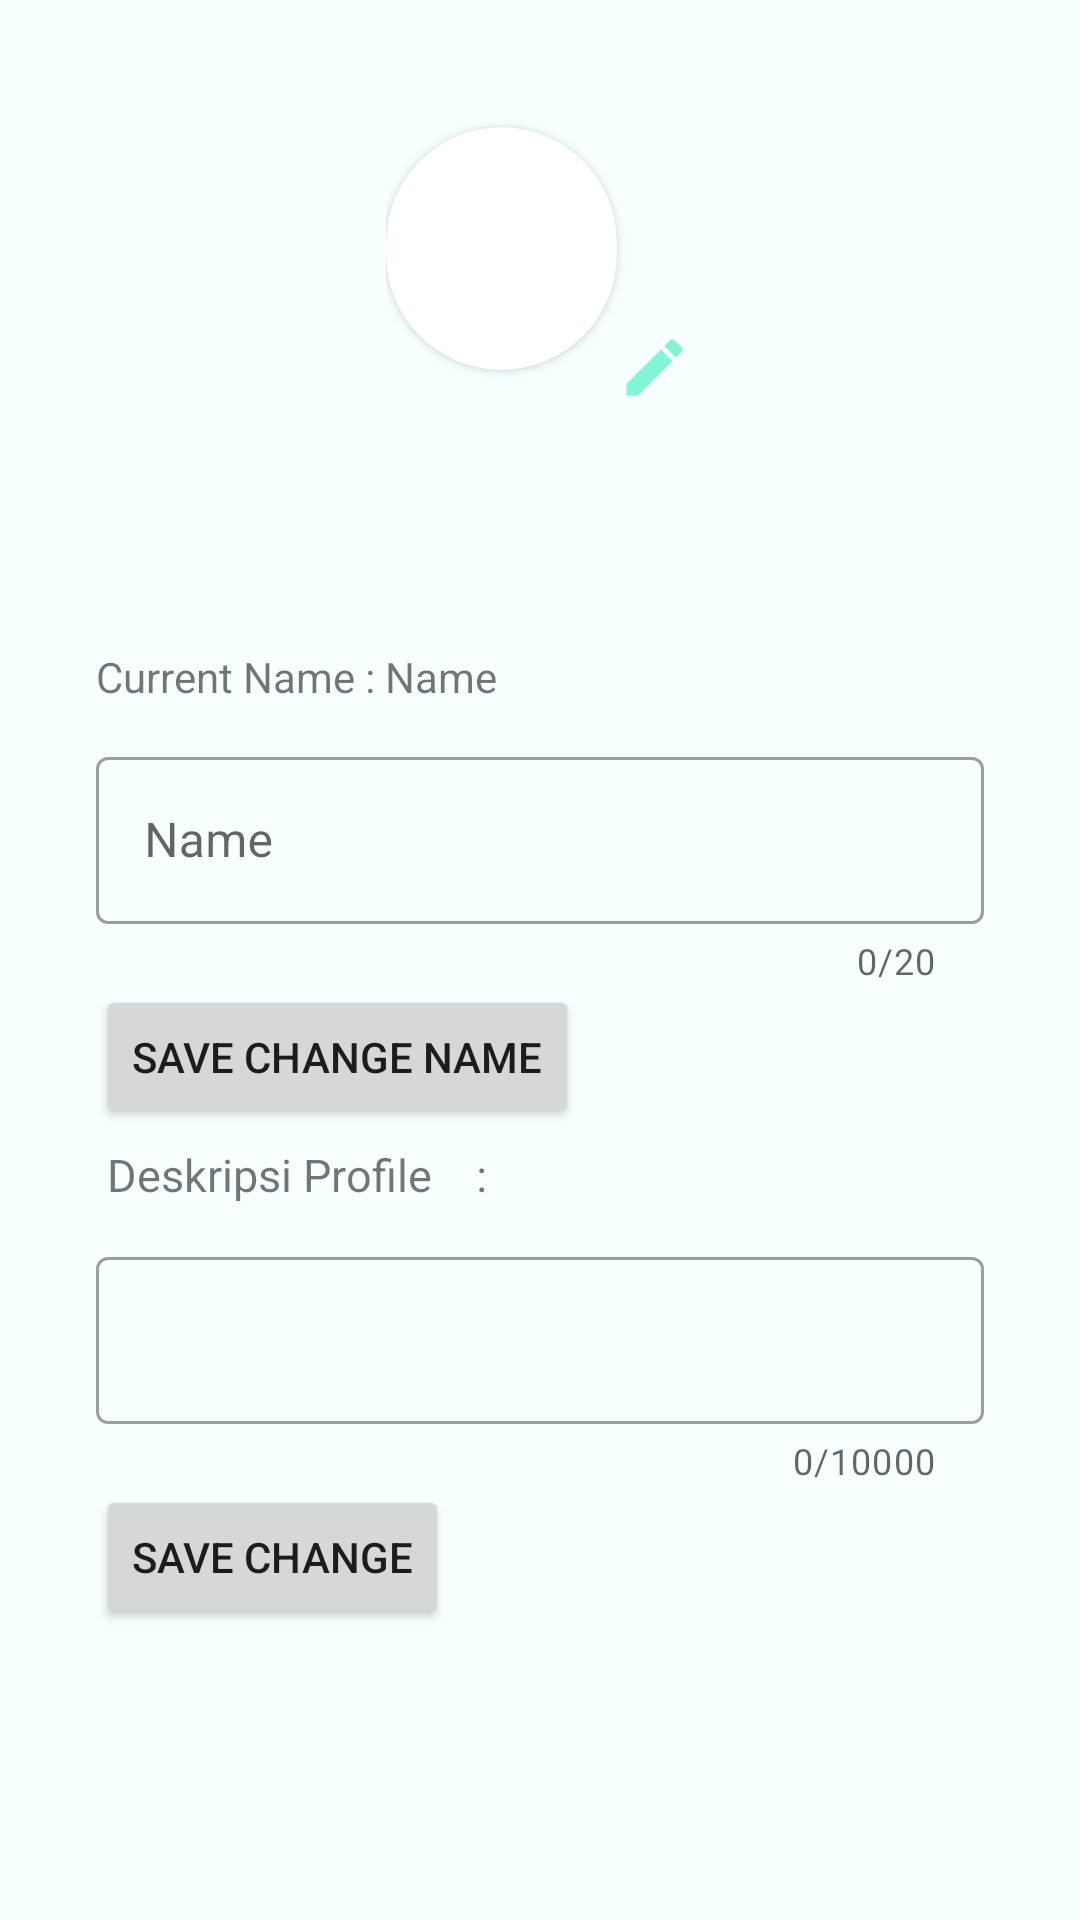

Where icons sit on this 1080×1920 app screen, as (x1, y1, x2, y2):
edit: (626, 339, 683, 396)
